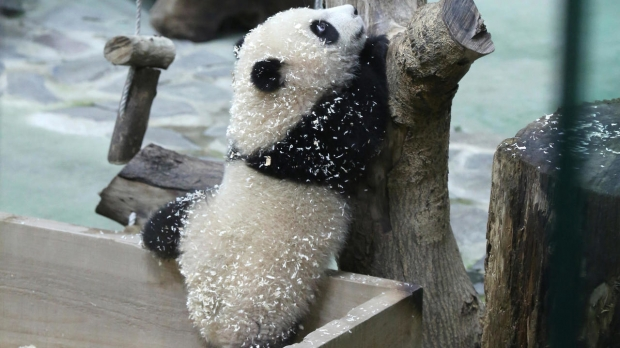panda: (122, 6, 390, 348)
